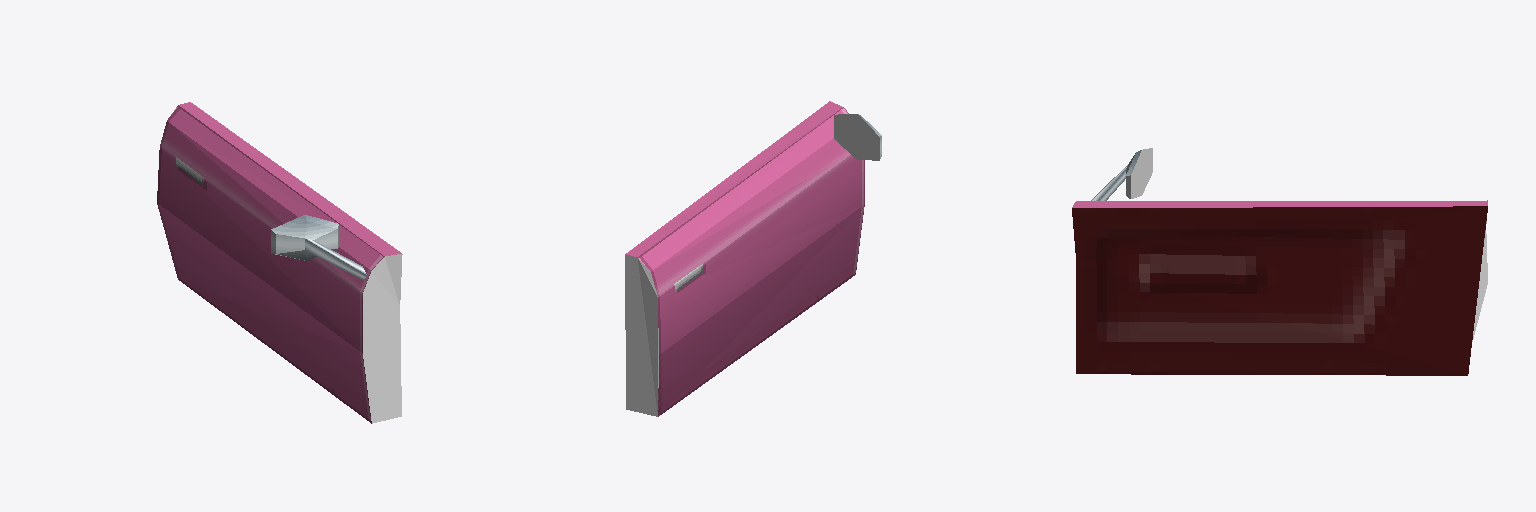
The picture shows the model from 3 angles: view 1: azimuth 30°, elevation 25°; view 2: azimuth 150°, elevation 25°; view 3: azimuth 270°, elevation 25°; orthographic projection.
Parts seen in each view (by area): view 1: DoorPRotShape; view 2: DoorPRotShape; view 3: DoorPRotShape.
Boxes of the visible parts, x1=… form: DoorPRotShape: x1=157, y1=102, x2=402, y2=423; DoorPRotShape: x1=625, y1=101, x2=881, y2=416; DoorPRotShape: x1=1072, y1=148, x2=1487, y2=375.
Size of the model in its own units: 0.3325 by 0.6384 by 1.25.
Materials: 6 (4 with a texture image).